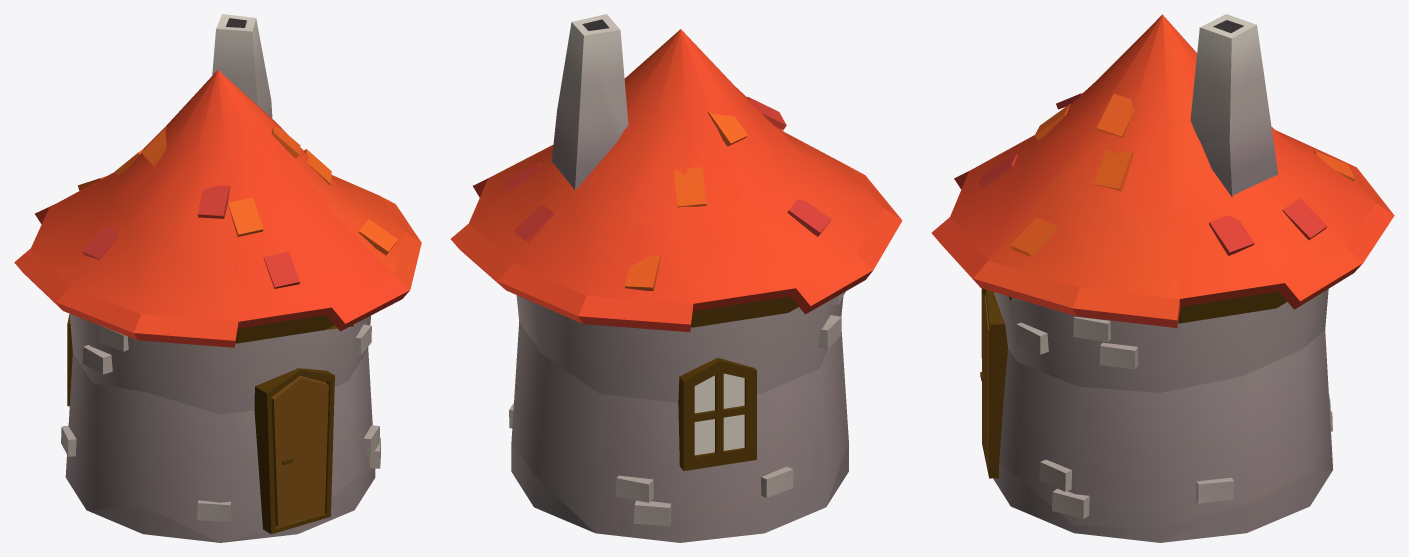
File: Tower_3.fbx
3 views of the same model, side by side, from view 1: azimuth 30°, elevation 25°; view 2: azimuth 150°, elevation 25°; view 3: azimuth 270°, elevation 25° (orthographic). The views are drawn at different scales.
Visible parts, largest first — view 1: Tower_3; view 2: Tower_3; view 3: Tower_3.
Boxes of the visible parts, bbox=[...] form: Tower_3: bbox=[14, 14, 421, 542]; Tower_3: bbox=[451, 14, 902, 542]; Tower_3: bbox=[931, 14, 1394, 542].
Bounding box in the file's own units: 1.58 × 1.8 × 1.61.
